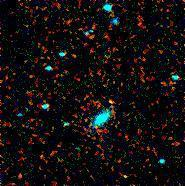star: (97, 89, 127, 119)
